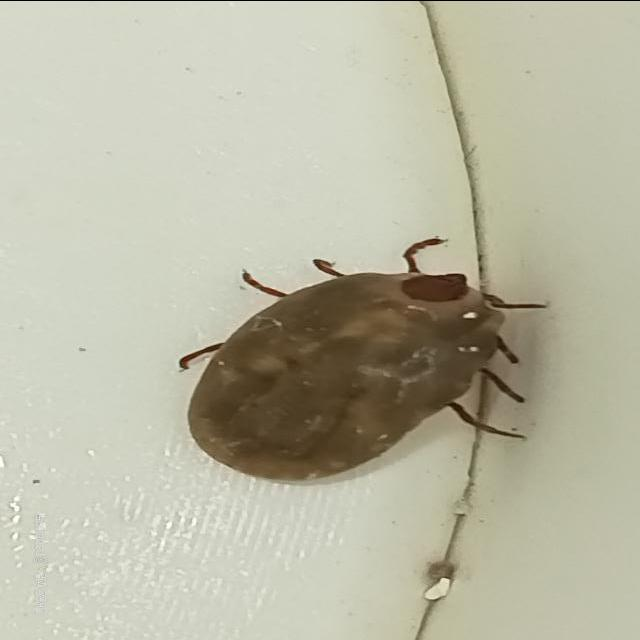Rhipicephalus Sanguineus-F-Fed: (178, 235, 560, 485)
